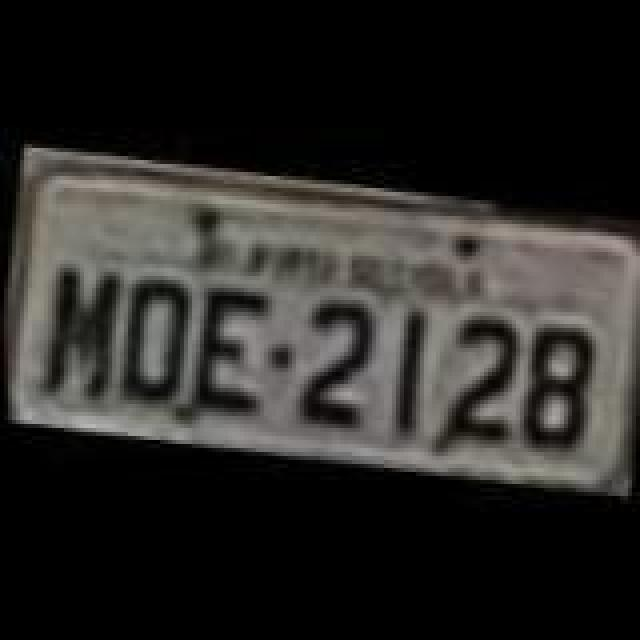1: (370, 306, 438, 442)
2: (434, 306, 534, 450), (284, 292, 380, 436)
8: (504, 316, 600, 452)
E: (178, 274, 274, 422)
M: (30, 254, 126, 402)
O: (106, 264, 202, 404)
